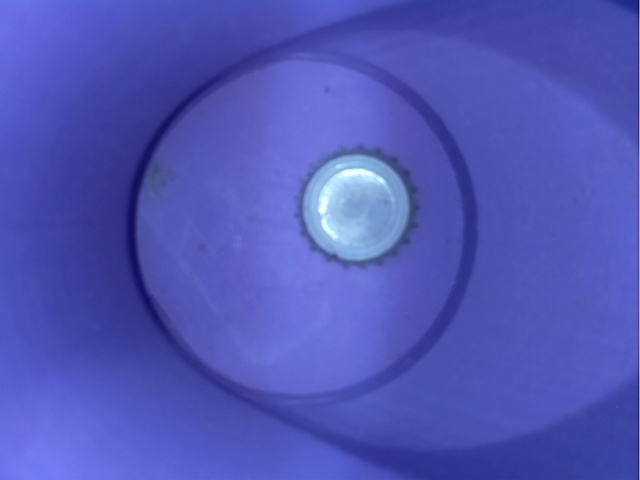capsule: (268, 136, 426, 269)
